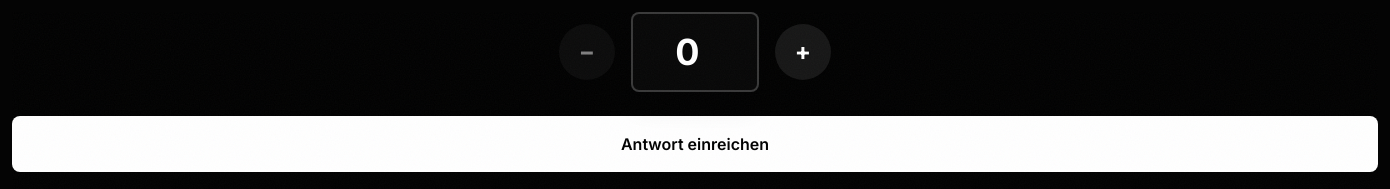
Scenario: CountPuzzle › should increment count when + button is clicked
Click the button named "Erhöhen": (803, 52) 775,24 -> 831,80
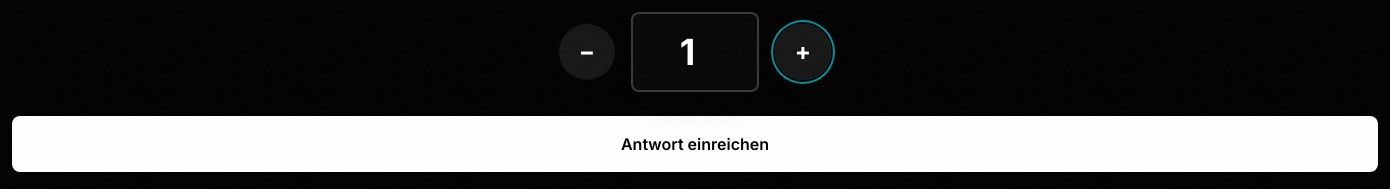
Check: the number field holds "1", box 631,12 -> 759,92
